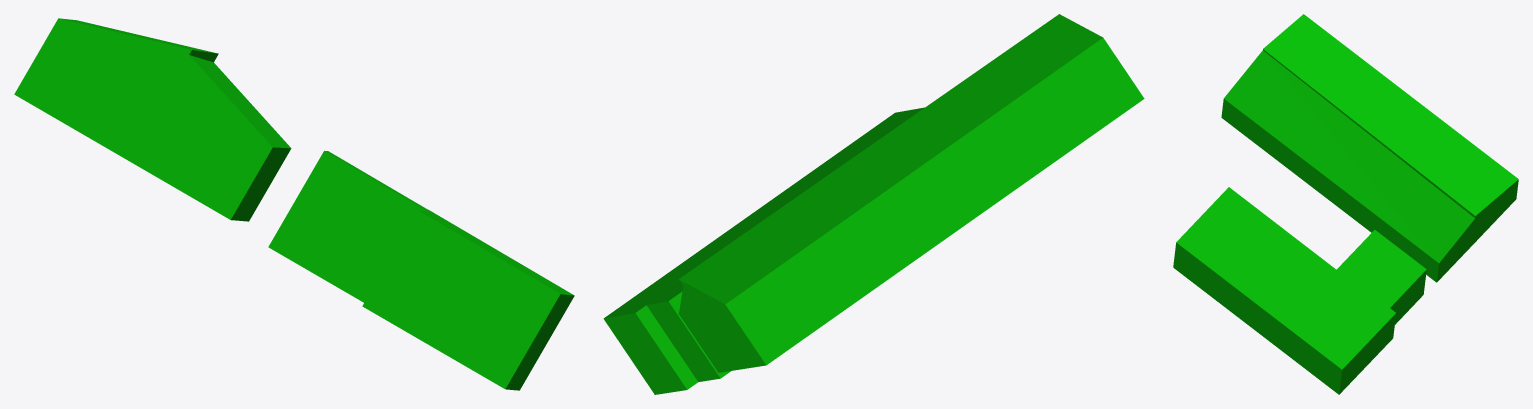
3 views of the same model, side by side, from view 1: azimuth 30°, elevation 25°; view 2: azimuth 150°, elevation 25°; view 3: azimuth 270°, elevation 25° (orthographic). The views are drawn at different scales.
Visible parts, largest first — view 1: mesh; view 2: mesh; view 3: mesh.
Boxes of the visible parts, x1,y1,x2,y2 form: mesh: (14, 18, 574, 390); mesh: (603, 14, 1144, 394); mesh: (1173, 14, 1518, 394).
Bounding box in the file's own units: 22.41 × 18.49 × 22.3.
